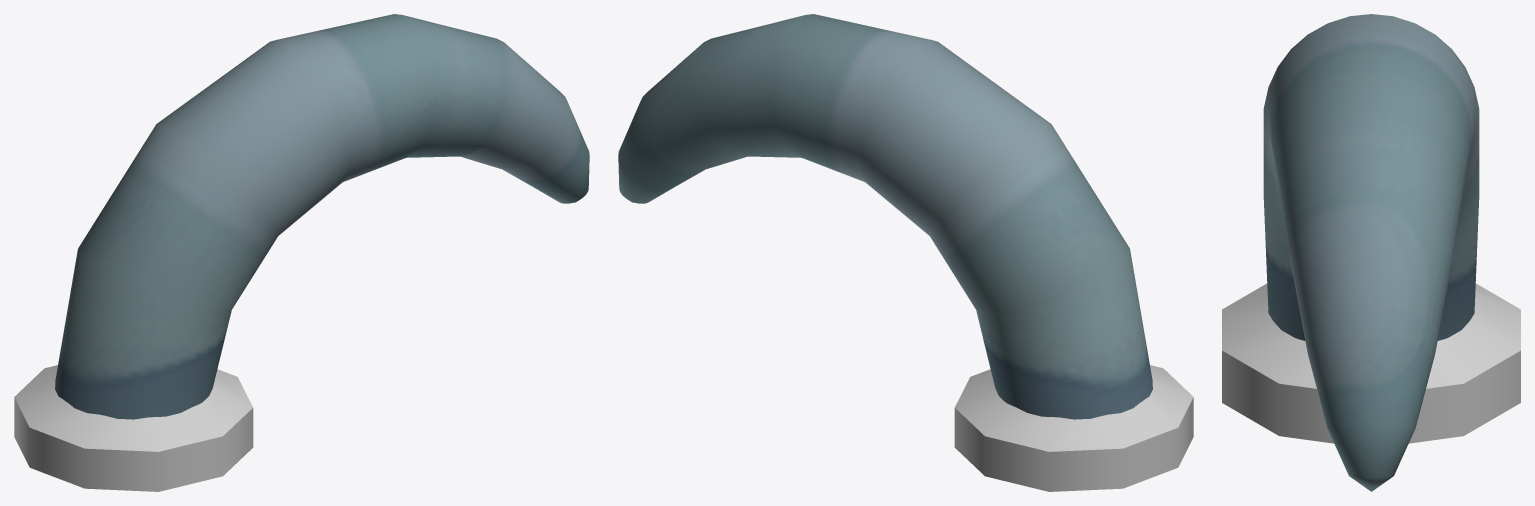
The model's file is SM_CT_Tentacle.FBX.
3 views of the same model, side by side, from view 1: azimuth 30°, elevation 25°; view 2: azimuth 150°, elevation 25°; view 3: azimuth 270°, elevation 25° (orthographic). The views are drawn at different scales.
Visible parts, largest first — view 1: SM_CT_Tentacle; view 2: SM_CT_Tentacle; view 3: SM_CT_Tentacle.
Part boxes in pixels (box(x1,y1,x2,y2)): SM_CT_Tentacle: box(14, 14, 589, 491); SM_CT_Tentacle: box(618, 14, 1193, 491); SM_CT_Tentacle: box(1222, 14, 1520, 491).
Bounding box in the file's own units: 205 × 126 × 72.95.
